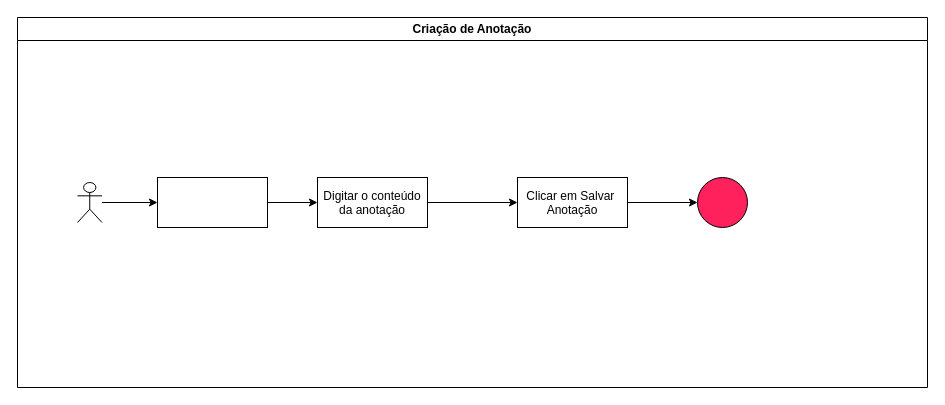
Image size: 945x405. Some labels were removed from this diagram. The shapes that lost their labels are listed below. From the top down, each one's centre as x and y in pixels, then its label:
At (x=89, y=202): "Actor".
At (x=212, y=202): "Clicar na extensão".
